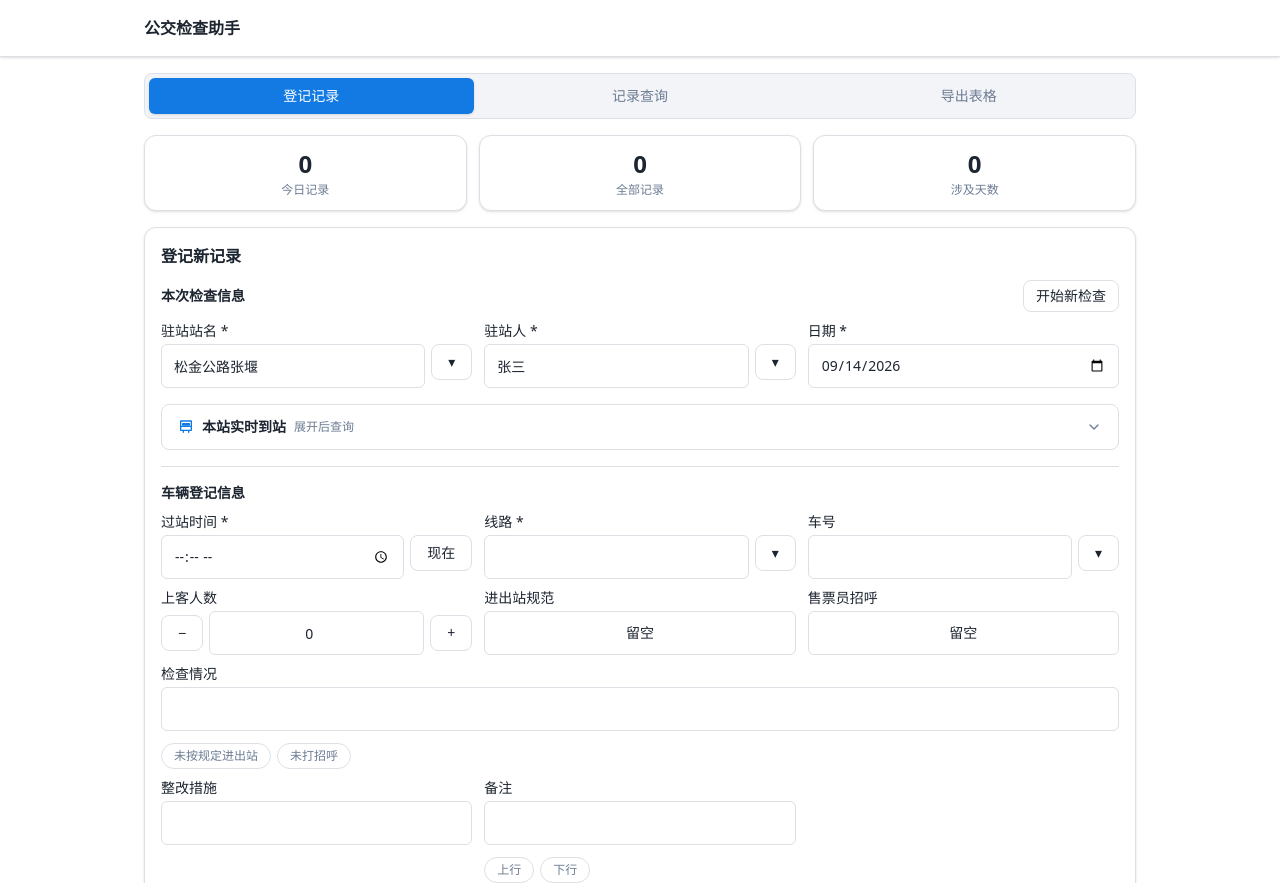
Scenario: 驻站实时到站面板 › 配置代理后展开才拉数据，并显示车牌与预计分钟
Click the text "本站实时到站".
click(244, 427)  # box [202, 417, 286, 437]
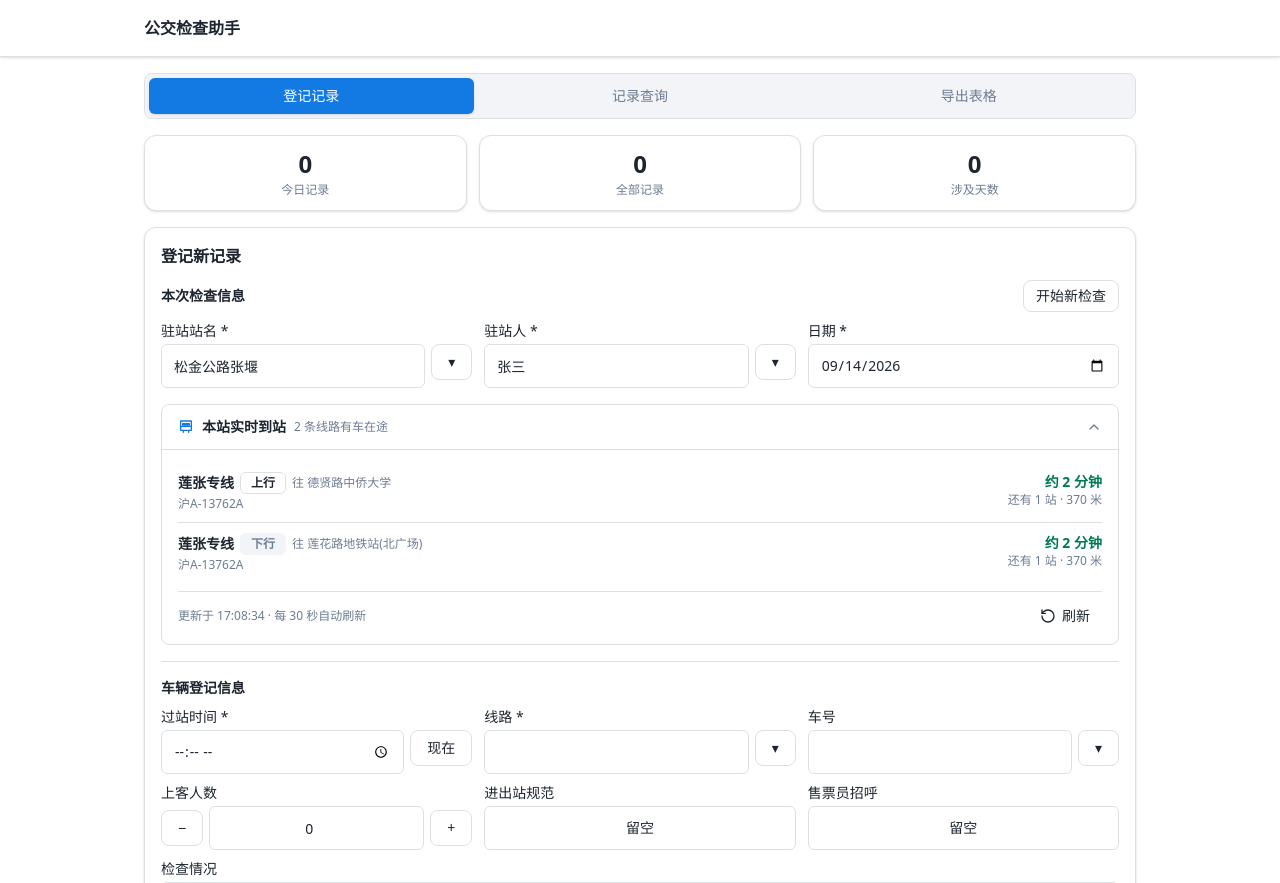
Expected: the text "沪A-13762A" is shown 2 times, [178, 495, 244, 512]; [178, 556, 244, 573]
Expected: the text "约 2 分钟" is shown 2 times, [1045, 472, 1102, 491]; [1045, 533, 1102, 552]
Expected: the text "还有 1 站 · 370 米" is shown 2 times, [1008, 492, 1102, 508]; [1008, 553, 1102, 569]
